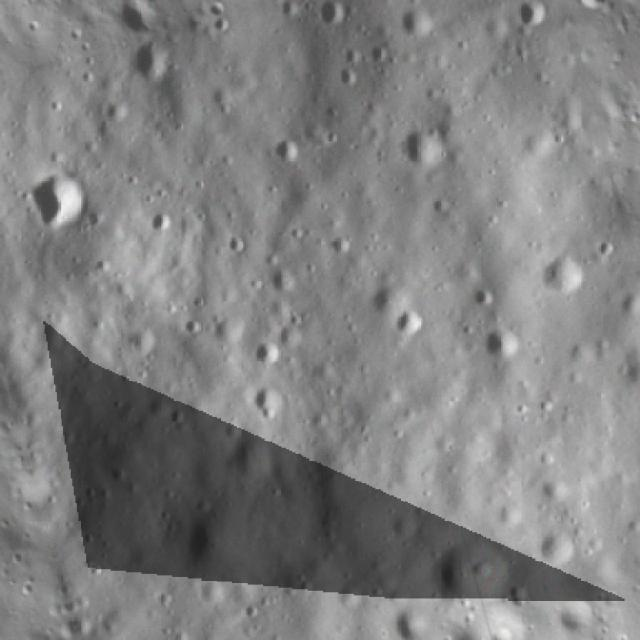crater: (16, 148, 104, 237), (380, 109, 457, 182), (528, 238, 602, 313), (456, 310, 530, 381), (111, 32, 183, 98), (528, 516, 586, 576), (257, 119, 315, 173), (133, 200, 187, 254), (388, 291, 438, 346), (387, 0, 442, 49), (352, 270, 402, 322), (241, 325, 290, 377), (497, 0, 555, 43), (242, 377, 289, 426), (415, 182, 459, 224), (356, 32, 398, 73), (326, 56, 369, 96), (306, 0, 348, 34)
